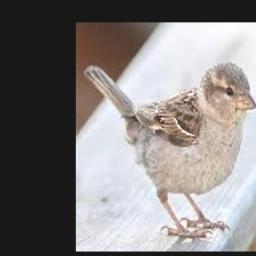Sparrow: (84, 61, 256, 237)
